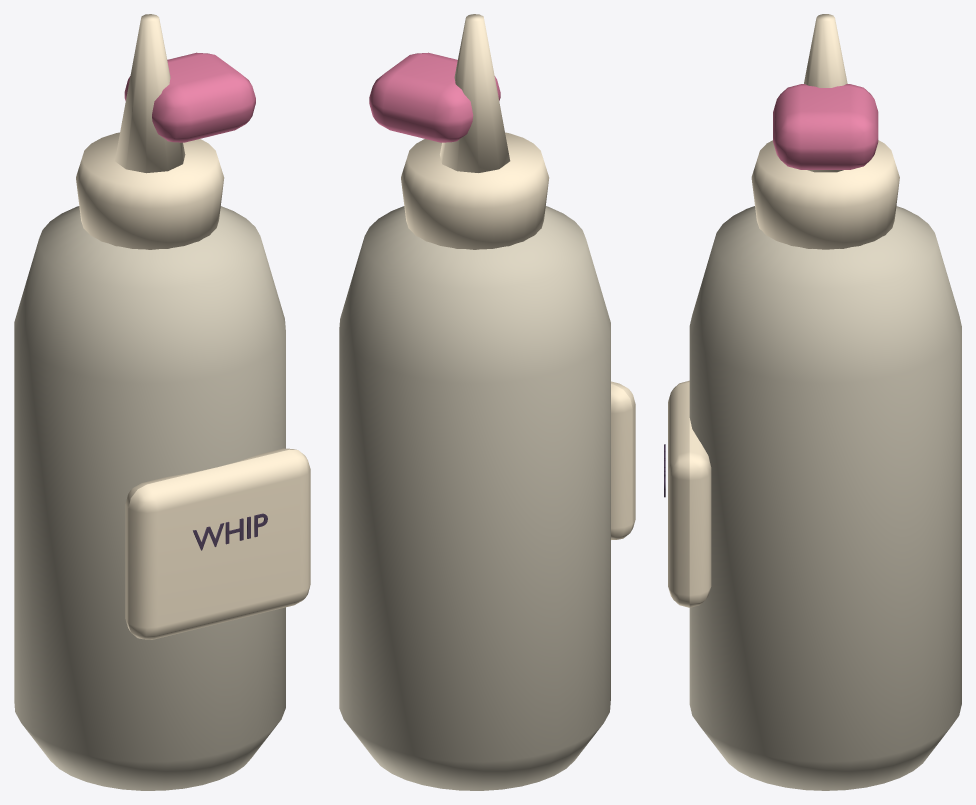
Rendered from Whipped_cream_dispenser.fbx.
The picture shows the model from 3 angles, left to right: view 1: azimuth 30°, elevation 25°; view 2: azimuth 150°, elevation 25°; view 3: azimuth 270°, elevation 25°; orthographic projection.
Visible parts, largest first — view 1: Toon_Whipped_cream_dispenser Working bottle.001, Toon_Whipped_cream_dispenser Bottle label.001, Toon_Whipped_cream_dispenser Cap.001, Toon_Whipped_cream_dispenser Whipped cream trigger.001, Toon_Whipped_cream_dispenser Pour nozzle.001, Bottle name.007; view 2: Toon_Whipped_cream_dispenser Working bottle.001, Toon_Whipped_cream_dispenser Cap.001, Toon_Whipped_cream_dispenser Whipped cream trigger.001, Toon_Whipped_cream_dispenser Pour nozzle.001, Toon_Whipped_cream_dispenser Bottle label.001; view 3: Toon_Whipped_cream_dispenser Working bottle.001, Toon_Whipped_cream_dispenser Cap.001, Toon_Whipped_cream_dispenser Bottle label.001, Toon_Whipped_cream_dispenser Whipped cream trigger.001, Toon_Whipped_cream_dispenser Pour nozzle.001.
Boxes of the visible parts, x1=… form: Toon_Whipped_cream_dispenser Working bottle.001: x1=14, y1=206, x2=285, y2=790; Toon_Whipped_cream_dispenser Bottle label.001: x1=125, y1=448, x2=310, y2=639; Toon_Whipped_cream_dispenser Cap.001: x1=76, y1=132, x2=224, y2=249; Toon_Whipped_cream_dispenser Whipped cream trigger.001: x1=124, y1=52, x2=255, y2=142; Toon_Whipped_cream_dispenser Pour nozzle.001: x1=115, y1=14, x2=185, y2=173; Bottle name.007: x1=193, y1=513, x2=267, y2=550; Toon_Whipped_cream_dispenser Working bottle.001: x1=339, y1=206, x2=610, y2=790; Toon_Whipped_cream_dispenser Cap.001: x1=401, y1=132, x2=549, y2=249; Toon_Whipped_cream_dispenser Whipped cream trigger.001: x1=369, y1=52, x2=500, y2=142; Toon_Whipped_cream_dispenser Pour nozzle.001: x1=440, y1=14, x2=510, y2=172; Toon_Whipped_cream_dispenser Bottle label.001: x1=611, y1=381, x2=635, y2=539; Toon_Whipped_cream_dispenser Working bottle.001: x1=689, y1=206, x2=961, y2=790; Toon_Whipped_cream_dispenser Cap.001: x1=751, y1=140, x2=899, y2=249; Toon_Whipped_cream_dispenser Bottle label.001: x1=668, y1=380, x2=711, y2=607; Toon_Whipped_cream_dispenser Whipped cream trigger.001: x1=773, y1=84, x2=878, y2=169; Toon_Whipped_cream_dispenser Pour nozzle.001: x1=804, y1=14, x2=847, y2=172.
Size of the model in its own units: 8.8 by 26 by 9.62.
